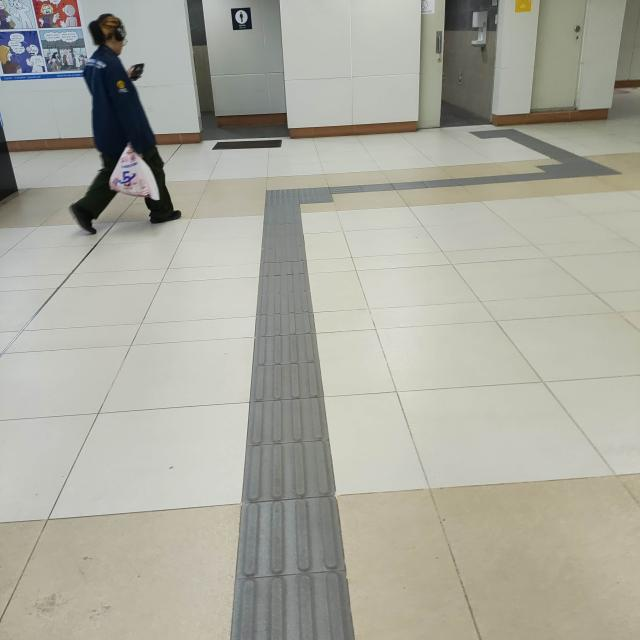kanan: (245, 170, 394, 221)
